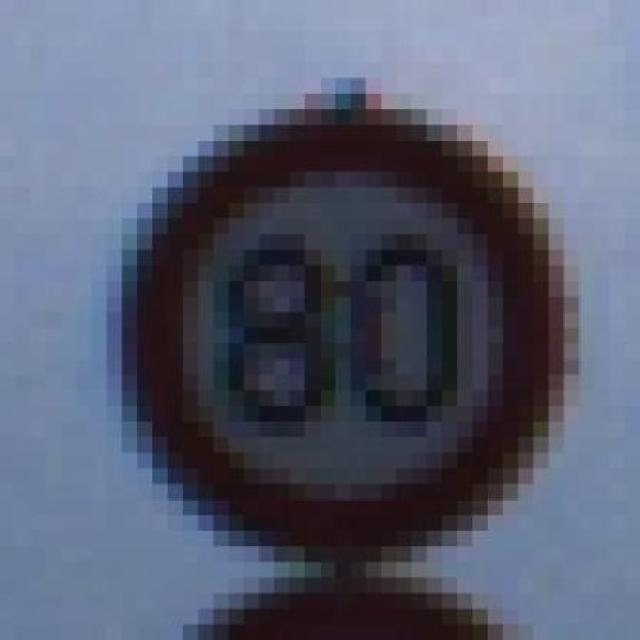forb_speed_over_80: (125, 113, 561, 559)
